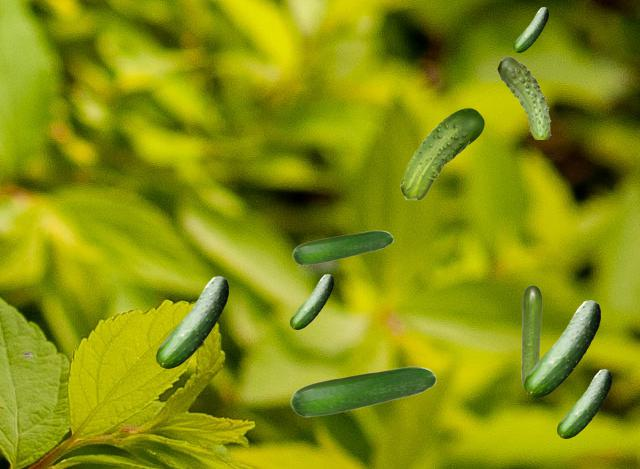cucumber: (400, 108, 483, 199), (290, 366, 435, 416), (524, 300, 599, 396), (156, 276, 227, 367), (497, 56, 550, 138), (557, 369, 610, 437), (292, 230, 392, 264), (290, 274, 332, 328), (521, 285, 541, 388), (513, 7, 547, 51)
